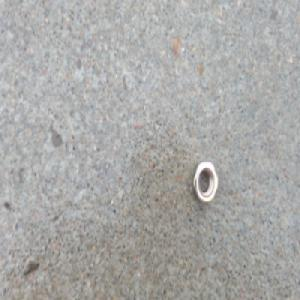Nut: (192, 159, 219, 205)
